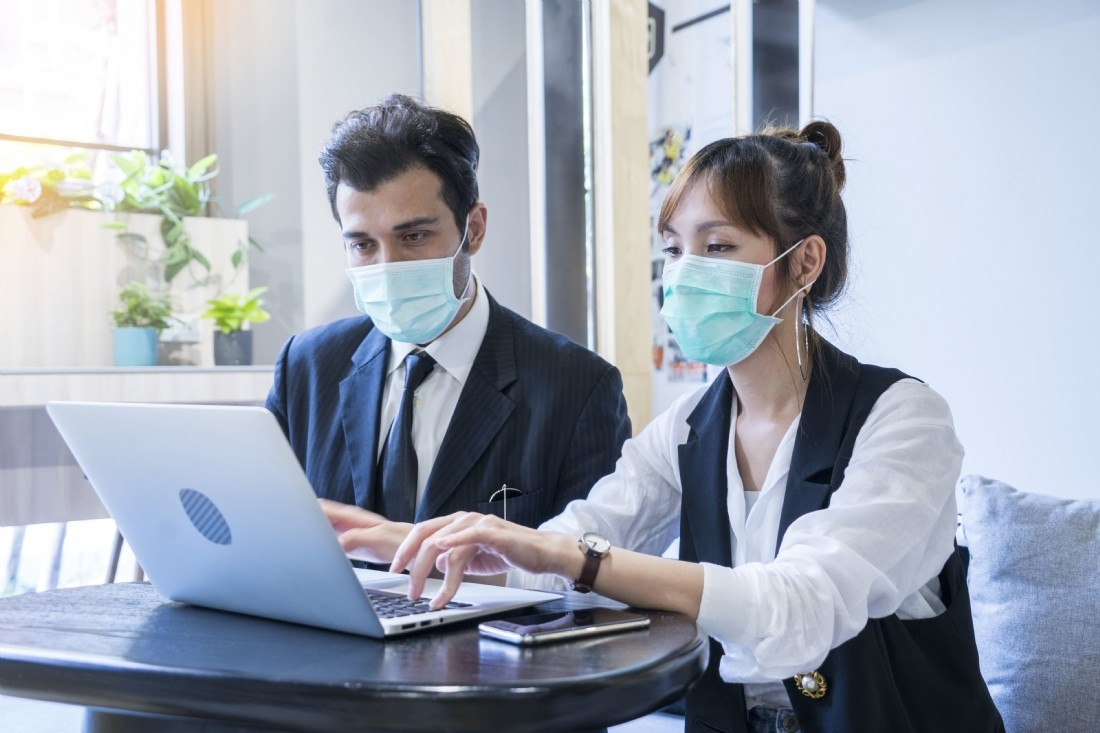with_mask: (659, 188, 791, 373), (340, 166, 467, 328)
